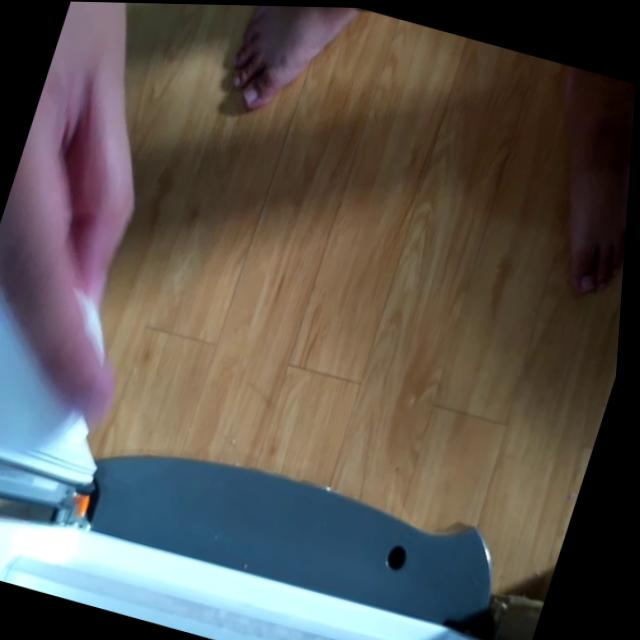egg: (0, 255, 122, 465)
